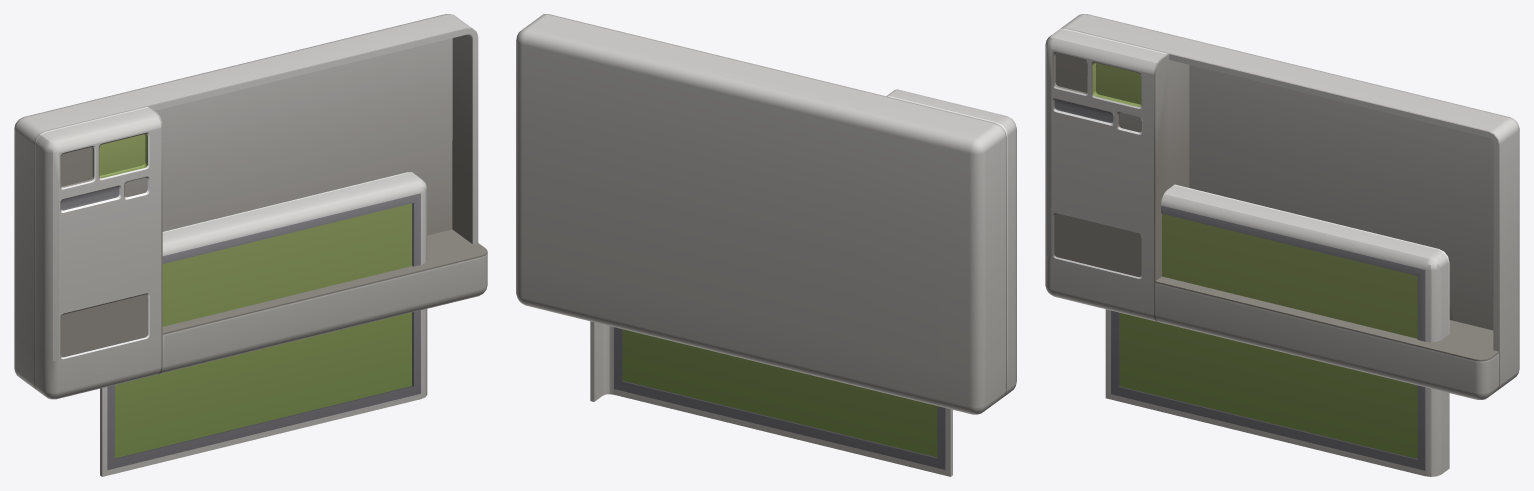
File: CassettePlayer_V4(1)(1).fbx
The picture shows the model from 3 angles, left to right: view 1: azimuth 30°, elevation 25°; view 2: azimuth 150°, elevation 25°; view 3: azimuth 330°, elevation 25°; orthographic projection. The views are drawn at different scales.
Parts seen in each view (by area): view 1: Walkman_Base, Cassette_Lid; view 2: Walkman_Base, Cassette_Lid; view 3: Walkman_Base, Cassette_Lid.
Part boxes in pixels (x1,y1,x2,y2): Walkman_Base: (14, 14, 487, 399); Cassette_Lid: (100, 172, 427, 476); Walkman_Base: (516, 14, 1016, 414); Cassette_Lid: (590, 321, 952, 476); Walkman_Base: (1045, 14, 1519, 399); Cassette_Lid: (1105, 184, 1449, 476).
Size of the model in its own units: 14.59 by 11.04 by 2.2.
